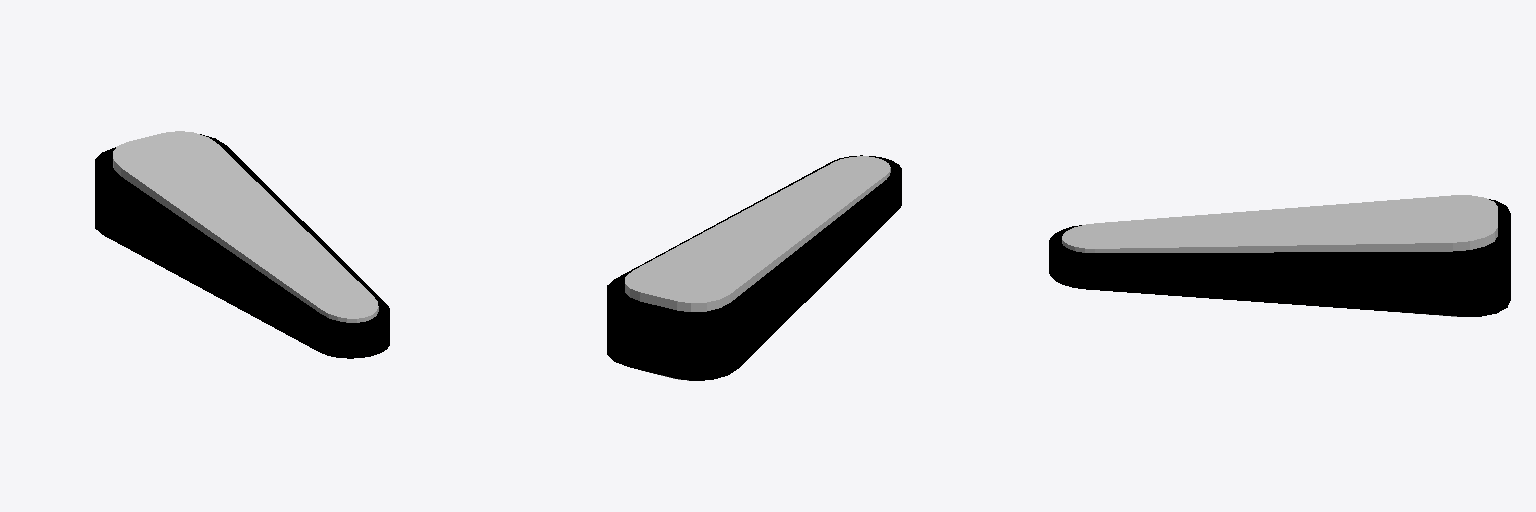
File: pinball_flipper.obj
3 renders of one model, left to right at view 1: azimuth 30°, elevation 25°; view 2: azimuth 150°, elevation 25°; view 3: azimuth 270°, elevation 25°, orthographic.
Visible parts, largest first — view 1: flipper; view 2: flipper; view 3: flipper.
Part boxes in pixels (left/top/right/bottom): flipper: left=95, top=131, right=389, bottom=358; flipper: left=607, top=155, right=901, bottom=380; flipper: left=1049, top=195, right=1510, bottom=316.
Size of the model in its own units: 0.5015 by 0.3015 by 1.62.